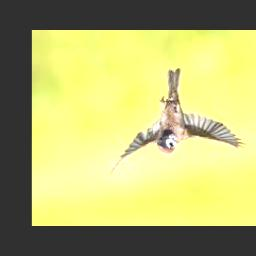Sparrow: (112, 68, 248, 176)
